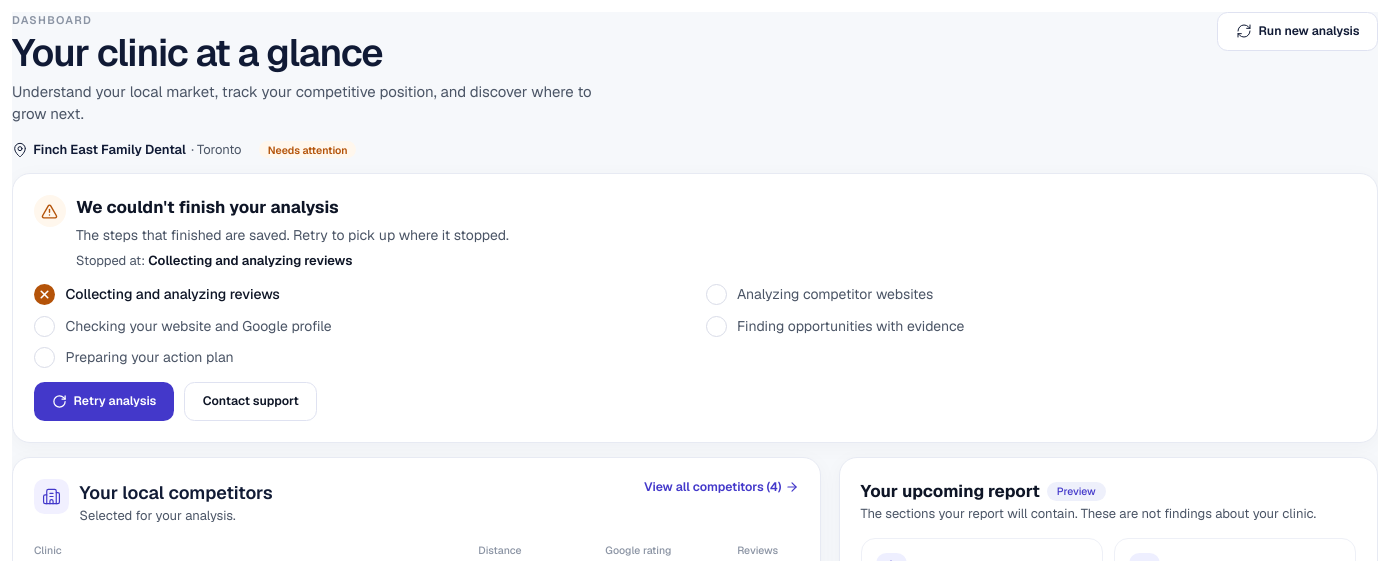
Test: Dashboard › shows the retry error and does not refresh when retry fails
Click the button "Retry analysis" at (104, 401), box top-left (34, 382), bottom-right (174, 420)
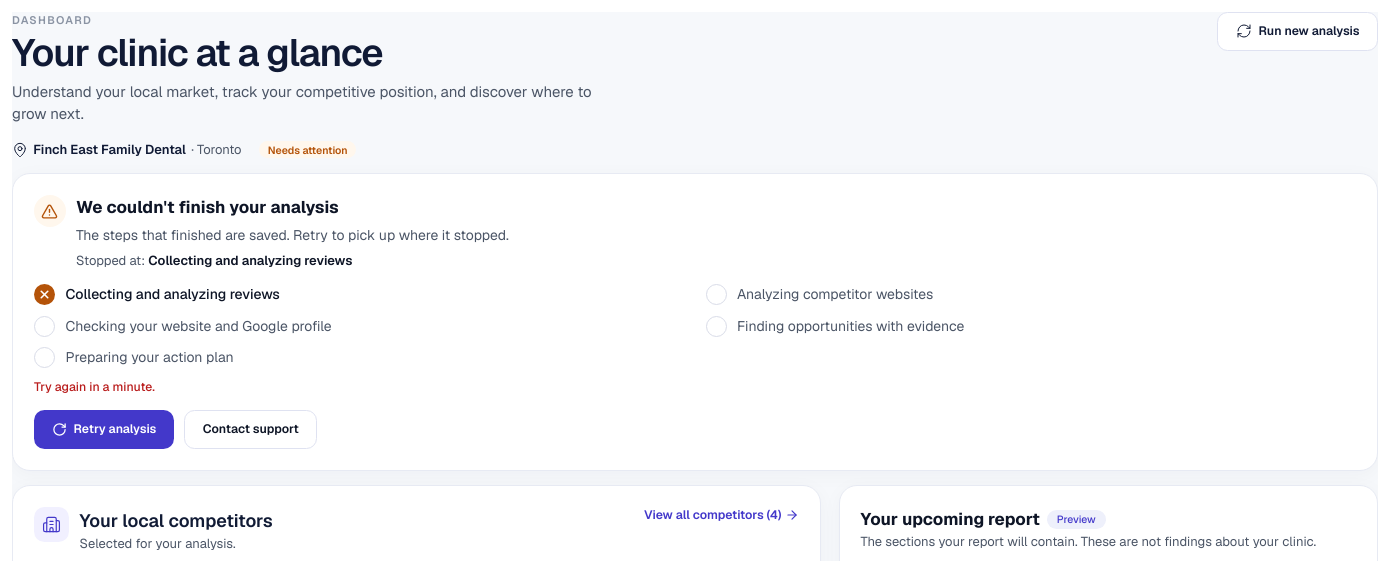
Expected: the message reads "Try again in a minute.", top-left (34, 378), bottom-right (155, 394)
